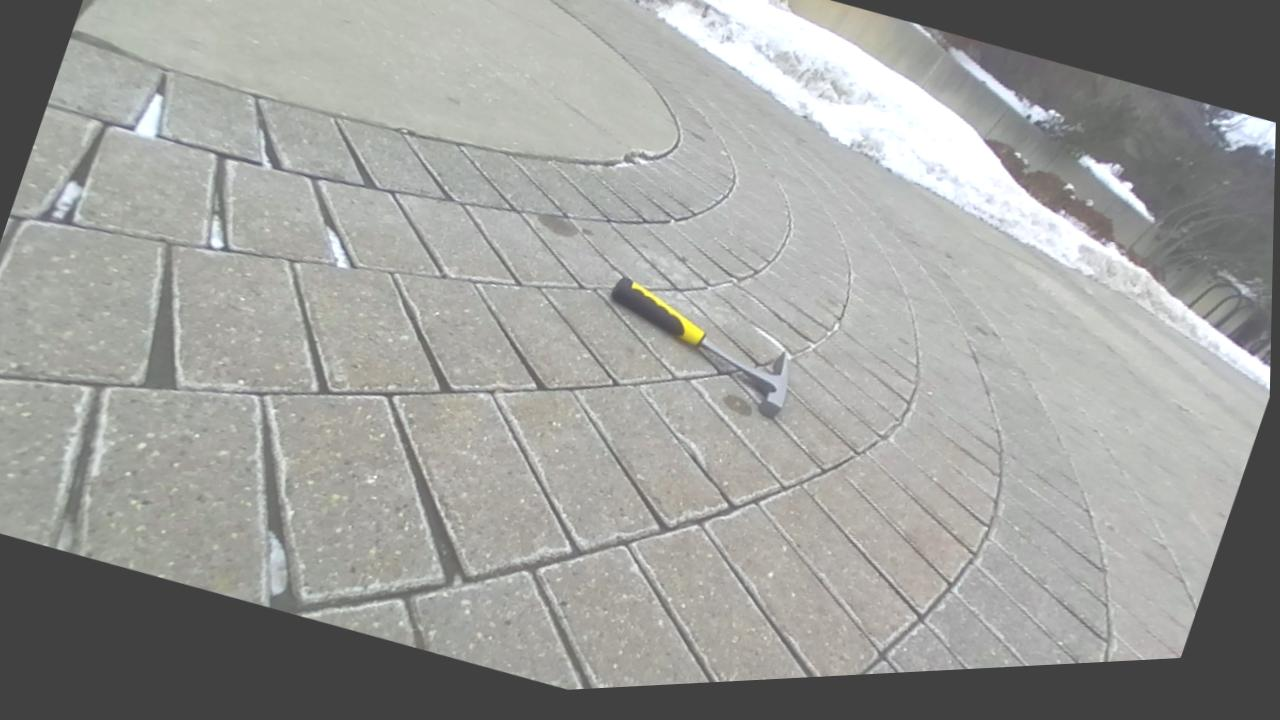pick: (610, 279, 786, 417)
